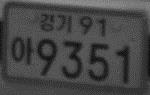1: (115, 44, 131, 85), (96, 15, 106, 38)
3: (60, 39, 83, 80)
5: (86, 41, 110, 82)
9: (35, 37, 57, 77), (78, 14, 94, 35)
경기_H: (39, 12, 72, 34)
아: (10, 35, 35, 67)
